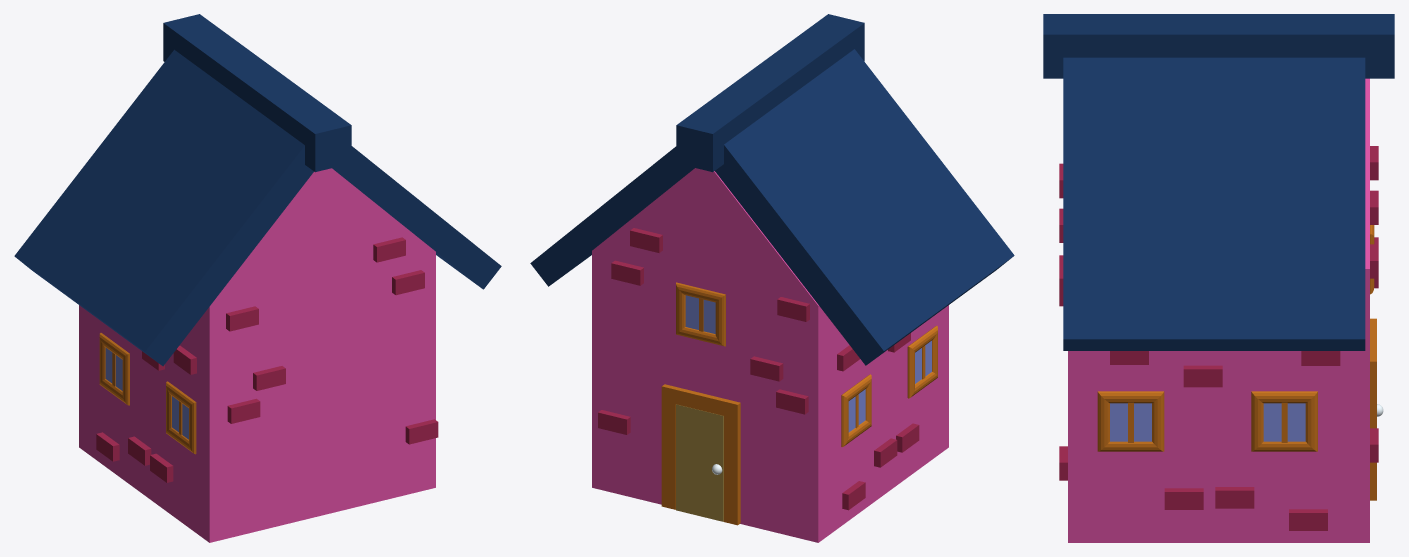
The model's file is House_1.fbx.
3 renders of one model, left to right at view 1: azimuth 30°, elevation 25°; view 2: azimuth 150°, elevation 25°; view 3: azimuth 270°, elevation 25°, orthographic. The views are drawn at different scales.
Visible parts, largest first — view 1: Cube.190, Cube.189, Cylinder.006, Cube.191, Cube.188, Torus.007, Torus.006, Cube.208, Cube.205, Cube.204, Cube.209, Cube.206 (+1 smaller); view 2: Cube.190, Cube.189, Cylinder.006, Cube.191, Cube.188, Cube.219, Cube.217, Torus.005, Cube.218, Cube.216, Torus.007, Torus.006 (+7 smaller); view 3: Cube.188, Cube.190, Cube.191, Torus.008, Torus.009, Cube.229, Cube.227, Cylinder.006, Cube.201, Cube.198, Cube.203, Cube.199 (+4 smaller).
Boxes of the visible parts, x1,y1,x2,y2 form: Cube.190: [79, 251, 435, 542]; Cube.189: [14, 49, 313, 366]; Cylinder.006: [210, 168, 434, 305]; Cube.191: [163, 14, 351, 172]; Cube.188: [332, 146, 501, 289]; Torus.007: [99, 333, 129, 405]; Torus.006: [166, 381, 196, 454]; Cube.208: [405, 419, 438, 444]; Cube.205: [227, 398, 260, 423]; Cube.204: [253, 366, 285, 390]; Cube.209: [392, 270, 424, 295]; Cube.206: [226, 306, 258, 331]; Cube.190: [592, 251, 948, 542]; Cube.189: [715, 49, 1014, 365]; Cylinder.006: [592, 168, 818, 305]; Cube.191: [676, 14, 864, 172]; Cube.188: [530, 146, 694, 286]; Cube.219: [676, 404, 723, 521]; Cube.217: [724, 416, 740, 525]; Torus.005: [676, 282, 725, 346]; Cube.218: [661, 400, 675, 509]; Cube.216: [661, 384, 740, 419]; Torus.007: [841, 374, 871, 446]; Torus.006: [907, 325, 937, 398]; Cube.188: [1063, 57, 1365, 350]; Cube.190: [1068, 269, 1369, 542]; Cube.191: [1043, 14, 1394, 78]; Torus.008: [1097, 391, 1164, 451]; Torus.009: [1251, 391, 1317, 451]; Cube.229: [1263, 403, 1305, 441]; Cube.227: [1110, 403, 1151, 441]; Cylinder.006: [1365, 78, 1369, 268]; Cube.201: [1183, 365, 1222, 387]; Cube.198: [1215, 487, 1254, 508]; Cube.203: [1164, 488, 1203, 509]; Cube.199: [1289, 509, 1327, 530].
Size of the model in its own units: 729 by 772 by 540.
